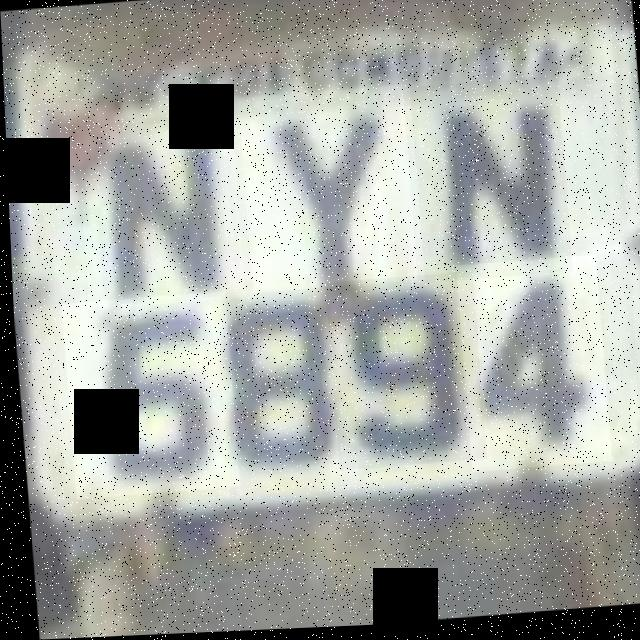4: (453, 259, 607, 476)
5: (57, 292, 235, 499)
8: (189, 276, 363, 495)
9: (322, 275, 482, 473)
N: (408, 80, 570, 287), (74, 119, 242, 310)
Y: (236, 88, 415, 295)
